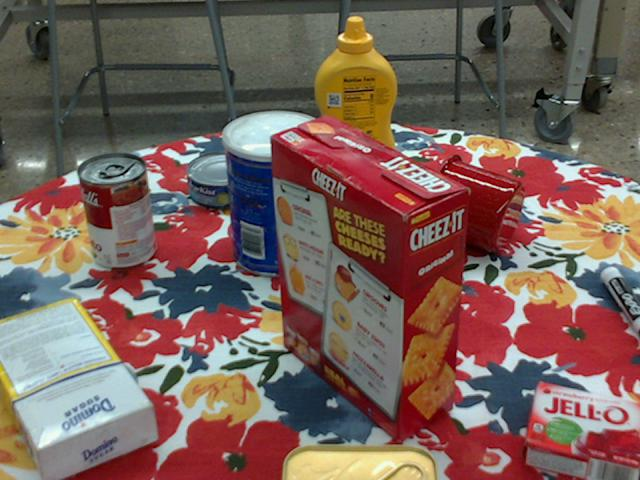cracker_box: (269, 118, 466, 445)
gelatin_box: (521, 381, 639, 479)
large_marker: (601, 264, 639, 335)
master_chef_can: (222, 110, 327, 277)
mug: (422, 154, 523, 252)
mustard_bottle: (313, 17, 396, 182)
potted_meat_can: (280, 445, 437, 479)
sugar_box: (0, 300, 156, 479)
tomato_soup_can: (78, 153, 154, 269)
tuna_fish_can: (187, 151, 261, 208)
